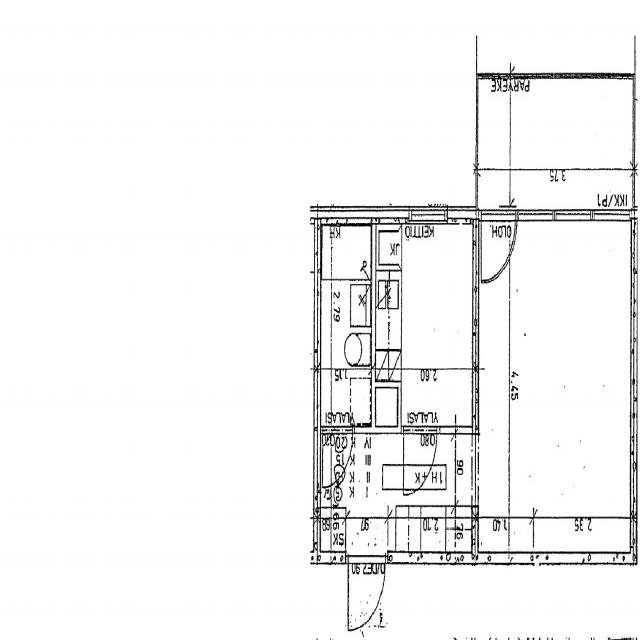door: (348, 552, 385, 631), (481, 208, 517, 288), (481, 208, 515, 285), (403, 426, 436, 494), (323, 426, 352, 489)
